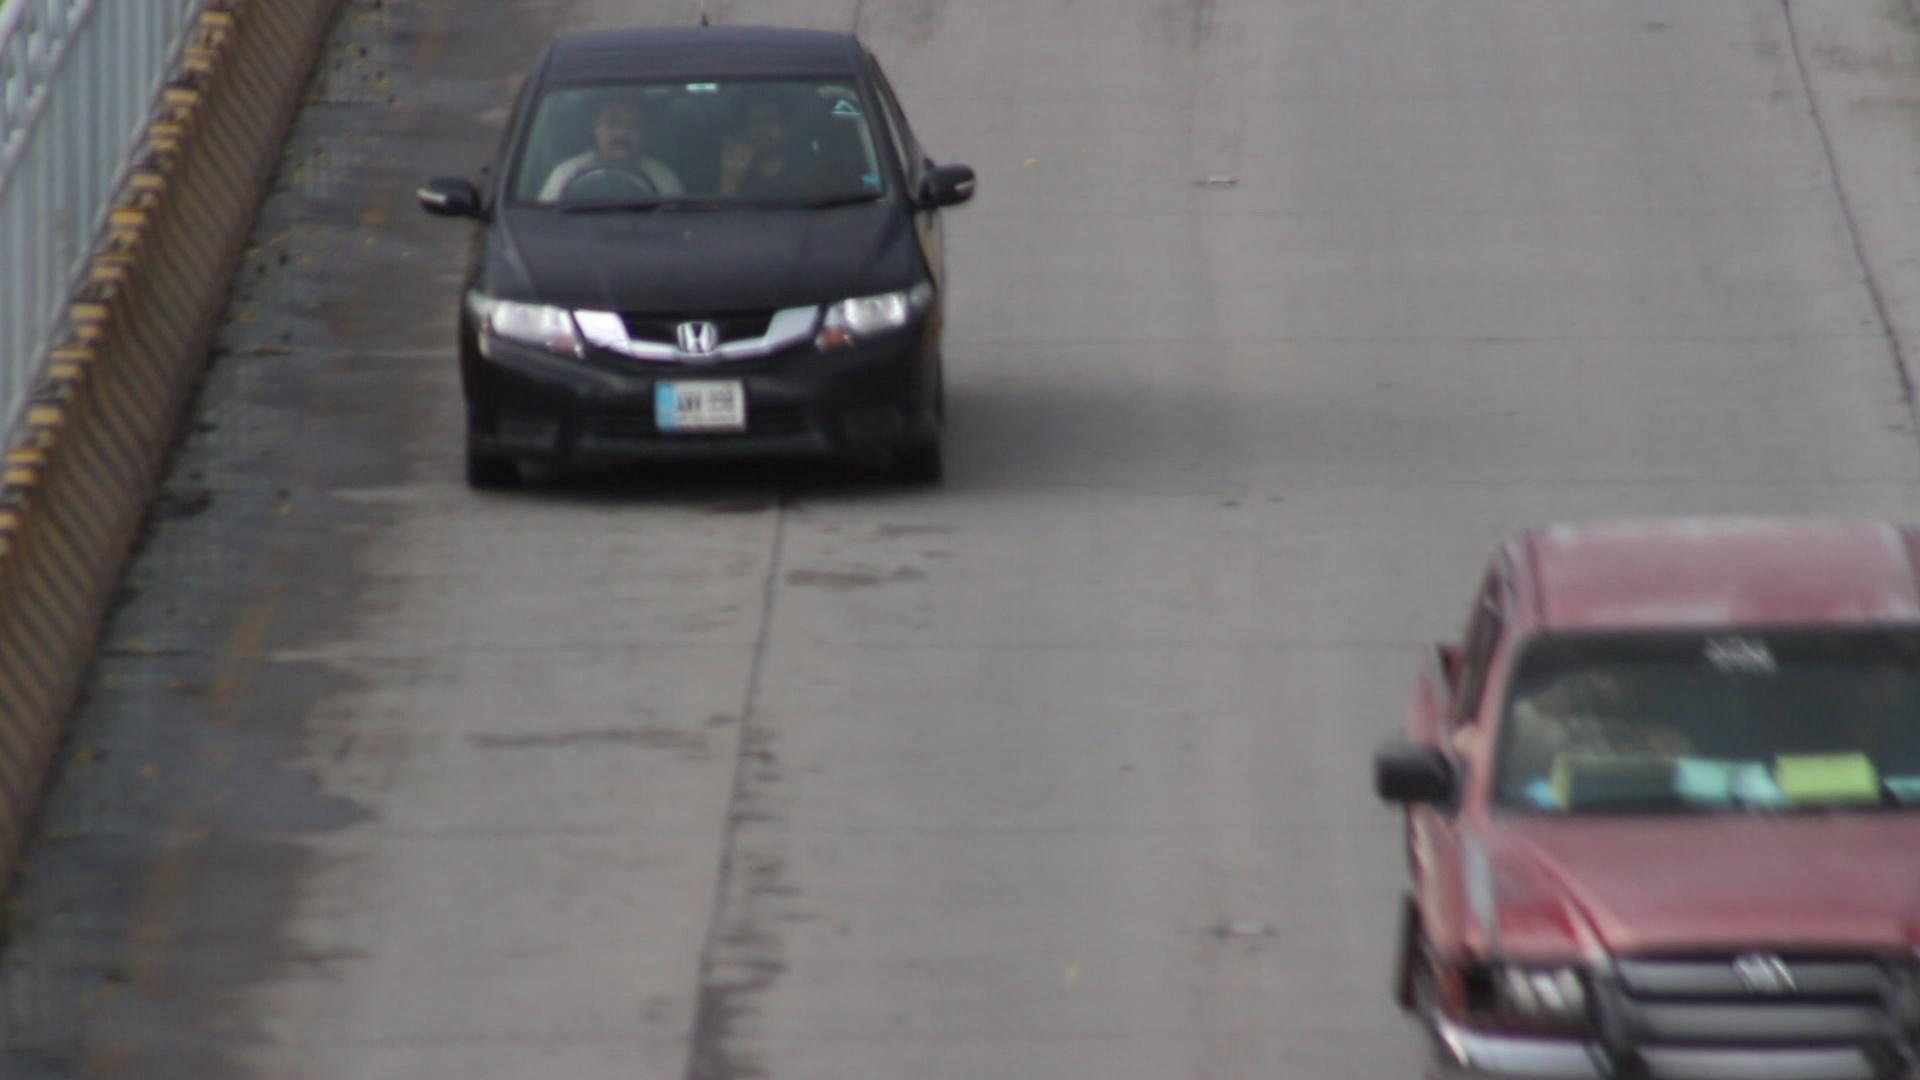windshield: (495, 67, 903, 214)
